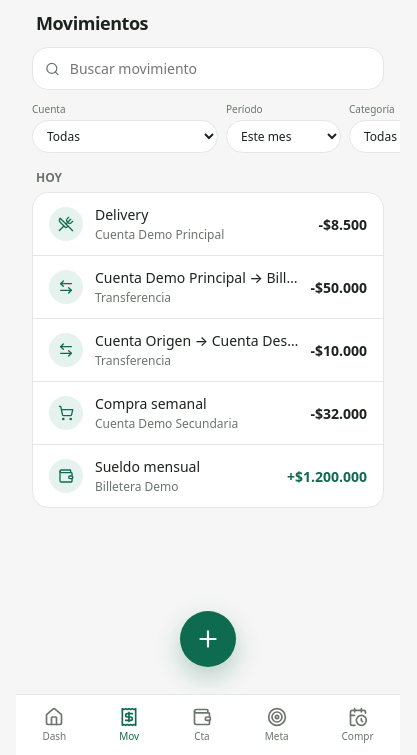
Test case: MovementsPage › opens detail for a regular movement and shows key fields
Click the button with aria-label "Ver detalle de Compra semanal".
click(208, 412)  # box 33,381 -> 383,444
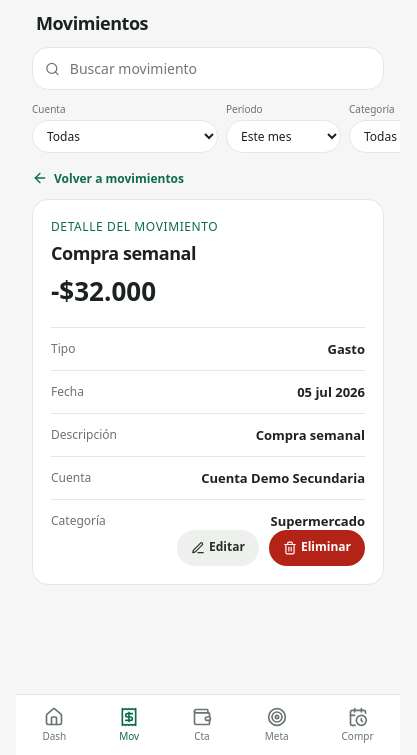
Check: the text "Detalle del movimiento" is shown, box 51,218 -> 218,234
Check: the text "Gasto" is shown, box 328,340 -> 365,358
Check: the text "05 jul 2026" is shown, box 297,382 -> 365,400
